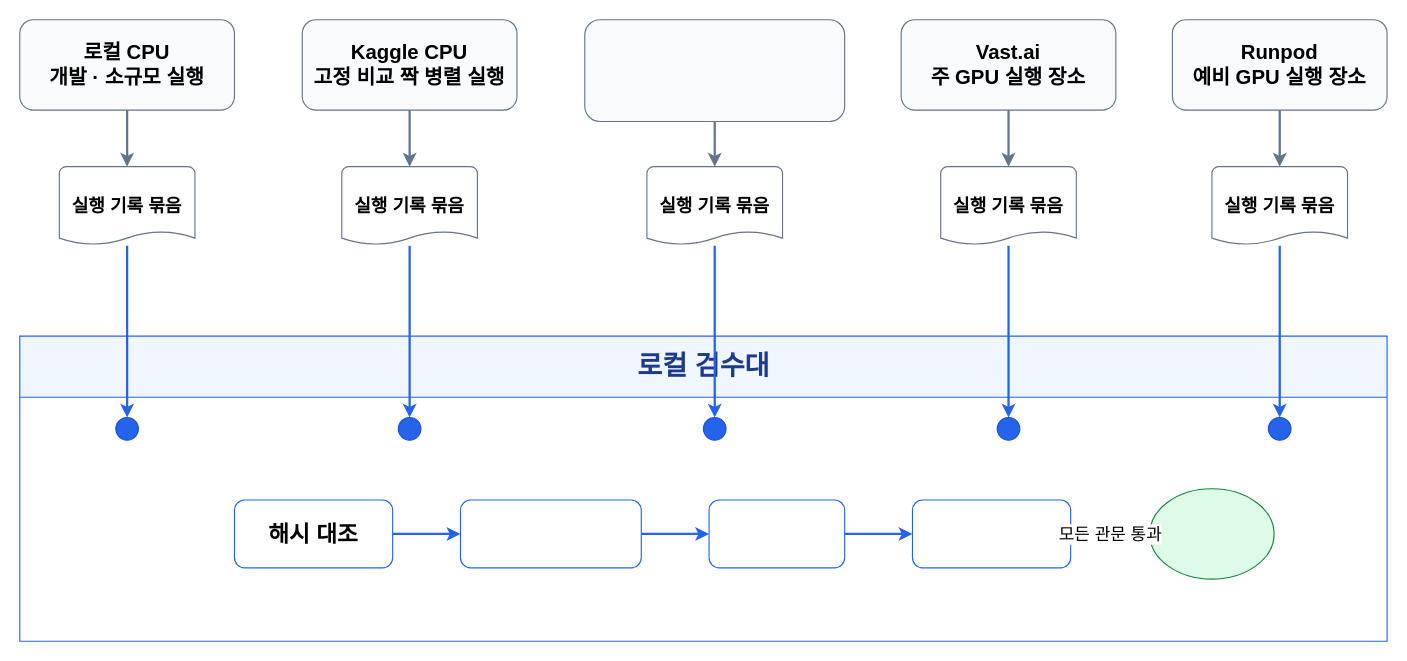
The diagram is 1407 pixels wide and 661 high, and some of its shapes have lost their labels. The centre of each missing label's shape, as x and y in pixels:
"Kaggle GPU 초반 정식 실행 후반 호환성 확인과 진단" belongs at [714,70].
"○ 채택" belongs at [1211,533].
"입력 경계 확인" belongs at [550,533].
"재채점" belongs at [776,533].
"판정과 조립" belongs at [991,533].
